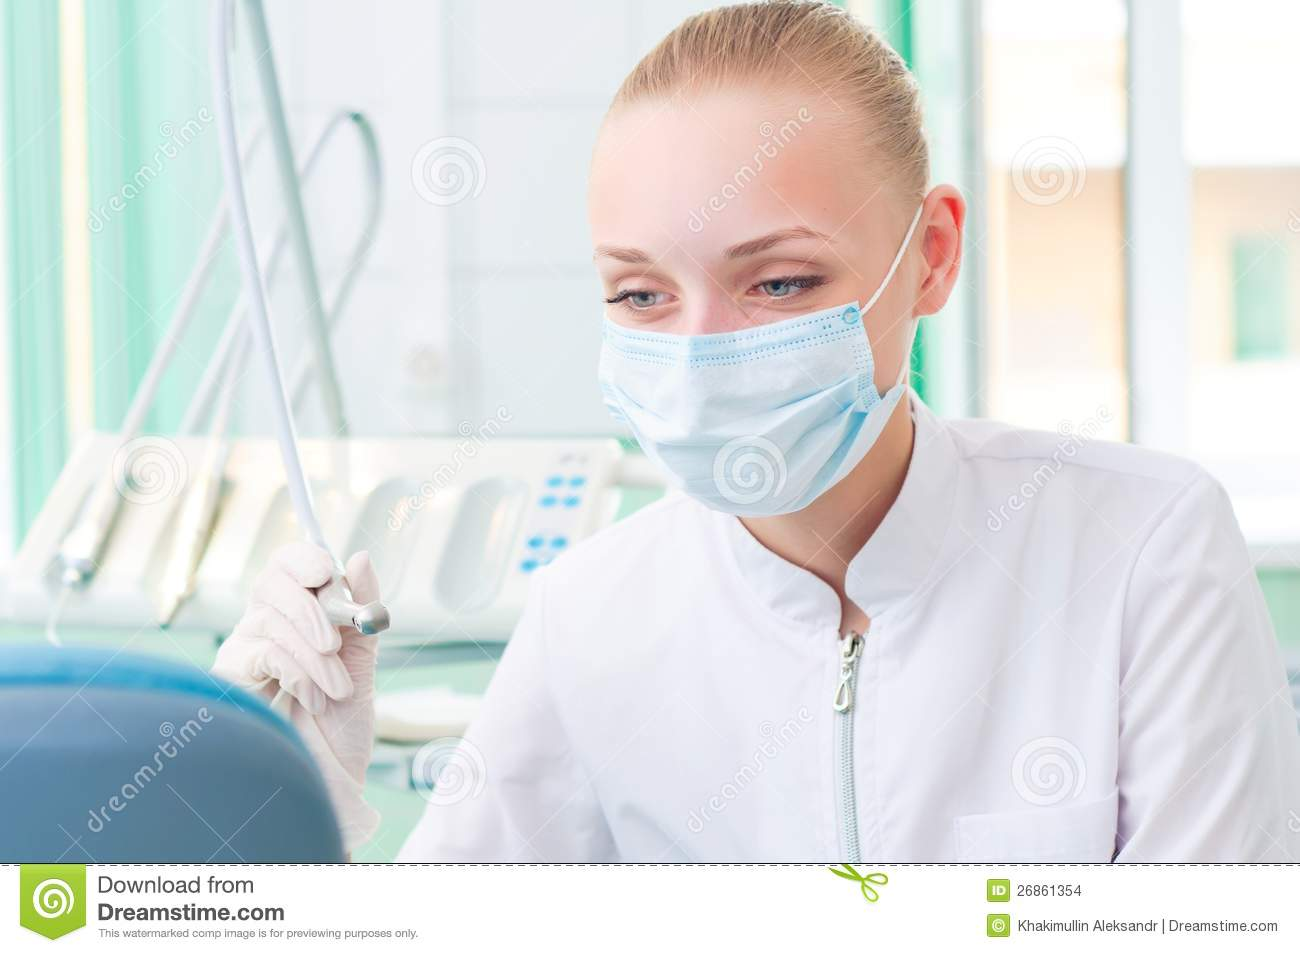mask: (582, 300, 900, 533)
